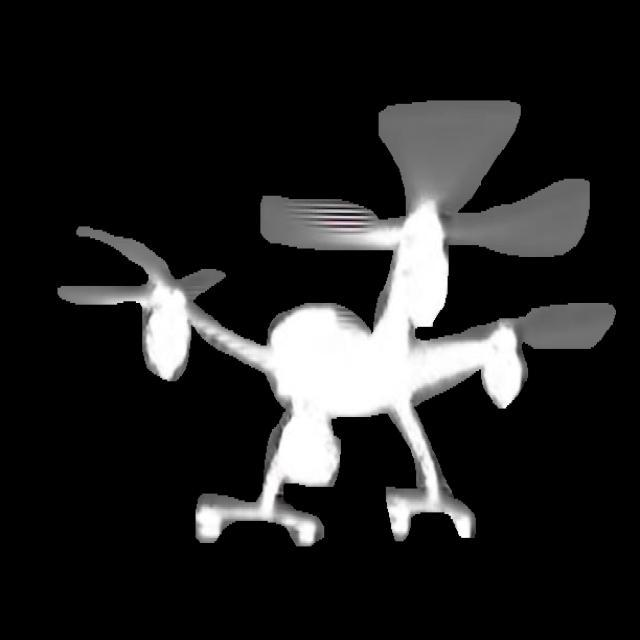drone: (70, 106, 620, 582)
